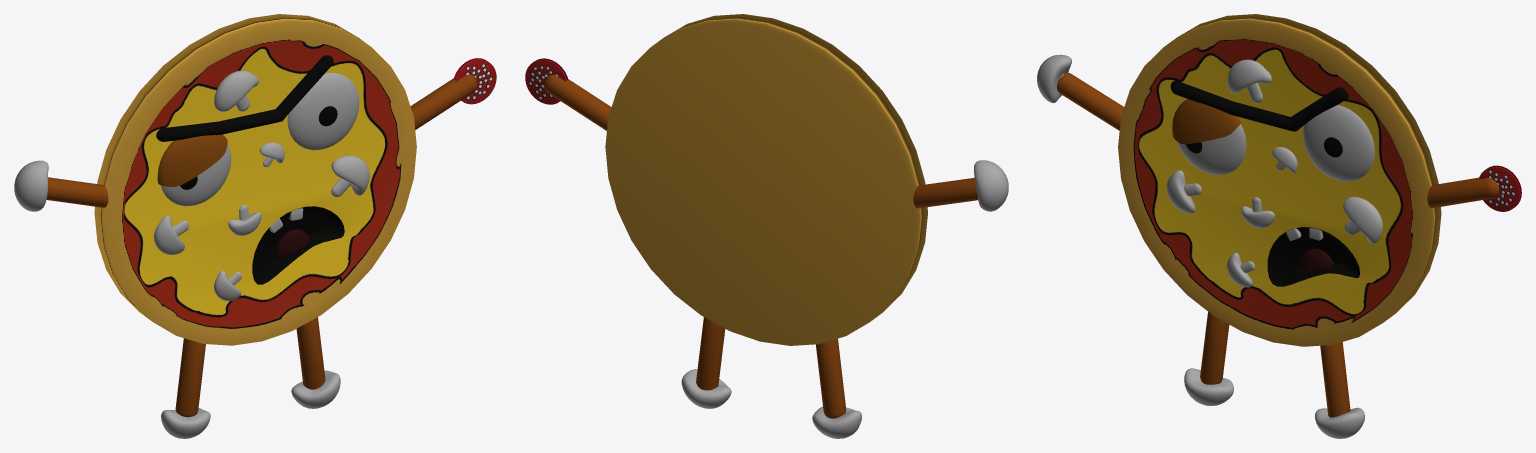
Rendered from pizza.fbx.
The picture shows the model from 3 angles, left to right: view 1: azimuth 30°, elevation 25°; view 2: azimuth 150°, elevation 25°; view 3: azimuth 330°, elevation 25°; orthographic projection.
Visible parts, largest first — view 1: Teig, Auge_L, Augenbraue, Lied_R, Bein_R, Arm_L, Auge_R, Bein_L, Pilz_Hand, Arm_R, Pilz_belag_oben, Pilz_belag_L (+7 smaller); view 2: Teig, Bein_R, Arm_L, Bein_L, Arm_R, Pilz_Hand, Salami, Pilz_Bein_L, Pilz_Bein_R; view 3: Teig, Auge_L, Augenbraue, Lied_R, Auge_R, Arm_R, Bein_L, Arm_L, Bein_R, Pilz_belag_L, Pilz_belag_oben, Salami (+8 smaller).
Boxes of the visible parts, box(x1,y1,x2,y2) form: Teig: box(94, 14, 416, 345); Auge_L: box(287, 73, 359, 150); Augenbraue: box(156, 55, 333, 141); Lied_R: box(157, 134, 227, 186); Bein_R: box(175, 338, 205, 417); Arm_L: box(410, 74, 477, 129); Auge_R: box(160, 144, 231, 206); Bein_L: box(296, 317, 325, 389); Pilz_Hand: box(14, 160, 48, 211); Arm_R: box(46, 177, 108, 207); Pilz_belag_oben: box(214, 70, 258, 111); Pilz_belag_L: box(331, 155, 369, 196); Teig: box(605, 14, 927, 345); Bein_R: box(815, 338, 845, 418); Arm_L: box(544, 74, 611, 130); Bein_L: box(696, 317, 725, 390); Arm_R: box(913, 177, 978, 208); Pilz_Hand: box(974, 160, 1008, 211); Salami: box(525, 58, 568, 104); Pilz_Bein_L: box(681, 369, 731, 408); Pilz_Bein_R: box(812, 406, 861, 438); Teig: box(1118, 14, 1441, 346); Auge_L: box(1303, 105, 1374, 181); Augenbraue: box(1170, 80, 1348, 131); Lied_R: box(1172, 99, 1241, 144); Auge_R: box(1177, 124, 1246, 175); Arm_R: box(1057, 72, 1124, 130); Bein_L: box(1320, 342, 1350, 417); Arm_L: box(1427, 177, 1499, 208); Bein_R: box(1200, 312, 1229, 384); Pilz_belag_L: box(1343, 197, 1382, 244); Pilz_belag_oben: box(1227, 59, 1271, 103); Salami: box(1479, 165, 1521, 211).
Size of the model in its own units: 998 by 792 by 77.69.
Materials: 13 (5 with a texture image).
